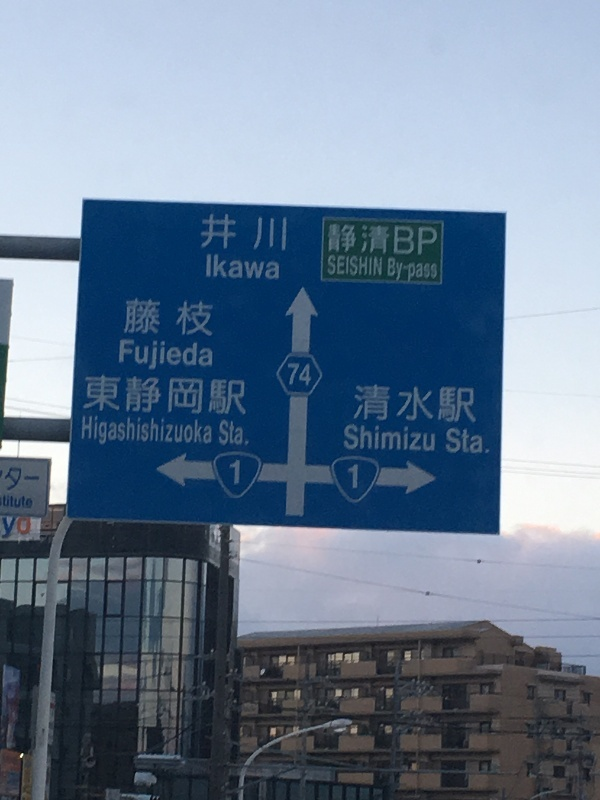text: (97, 374, 112, 420), (113, 374, 128, 420), (129, 374, 144, 420), (145, 374, 160, 420), (161, 374, 176, 420), (177, 374, 192, 420), (193, 374, 208, 420), (209, 374, 224, 420), (225, 374, 240, 420), (369, 383, 384, 424), (385, 383, 400, 424), (401, 383, 416, 424), (417, 383, 432, 424), (433, 383, 448, 424), (449, 383, 464, 424), (129, 298, 144, 338), (145, 298, 160, 338), (161, 298, 176, 338), (177, 298, 192, 338), (193, 298, 208, 338), (209, 213, 224, 251), (225, 213, 240, 251), (241, 213, 256, 251), (257, 213, 272, 251), (273, 213, 287, 251), (337, 223, 352, 258), (353, 223, 368, 258), (369, 223, 384, 258), (385, 223, 400, 258), (401, 223, 416, 258), (417, 223, 432, 258), (356, 383, 368, 424), (465, 383, 477, 424), (97, 415, 112, 447), (113, 415, 128, 447), (129, 415, 144, 447), (145, 415, 160, 447), (161, 415, 176, 447), (177, 415, 192, 447), (193, 415, 208, 447), (86, 374, 96, 420), (129, 341, 144, 371), (145, 341, 160, 371), (161, 341, 176, 371), (177, 341, 192, 371), (193, 341, 208, 371), (353, 423, 368, 452), (369, 423, 384, 452), (385, 423, 400, 452), (401, 423, 416, 452), (417, 423, 432, 452), (449, 427, 464, 455), (465, 427, 480, 455), (83, 415, 96, 447), (225, 420, 240, 447), (209, 254, 224, 280), (225, 254, 240, 280), (241, 254, 256, 280), (257, 254, 272, 280), (17, 467, 32, 492), (401, 257, 416, 281), (417, 257, 432, 281), (289, 363, 304, 387), (337, 255, 352, 277), (353, 255, 368, 277), (2, 517, 16, 539), (17, 517, 31, 539), (388, 257, 400, 281), (369, 255, 382, 277), (229, 459, 240, 485), (241, 374, 247, 420), (5, 467, 16, 492), (329, 223, 336, 258), (120, 341, 128, 371), (344, 423, 352, 452), (202, 213, 208, 251), (17, 495, 33, 509), (328, 255, 336, 277), (33, 467, 40, 492), (305, 363, 312, 387), (4, 495, 16, 509), (209, 298, 213, 338), (273, 254, 279, 280), (433, 223, 437, 258), (347, 465, 352, 490), (353, 465, 358, 490), (209, 341, 213, 371), (220, 420, 224, 447), (433, 257, 437, 281), (209, 415, 212, 447), (241, 420, 244, 447), (433, 423, 435, 452), (446, 427, 448, 455), (481, 427, 483, 455), (127, 298, 128, 338), (207, 254, 208, 280)
